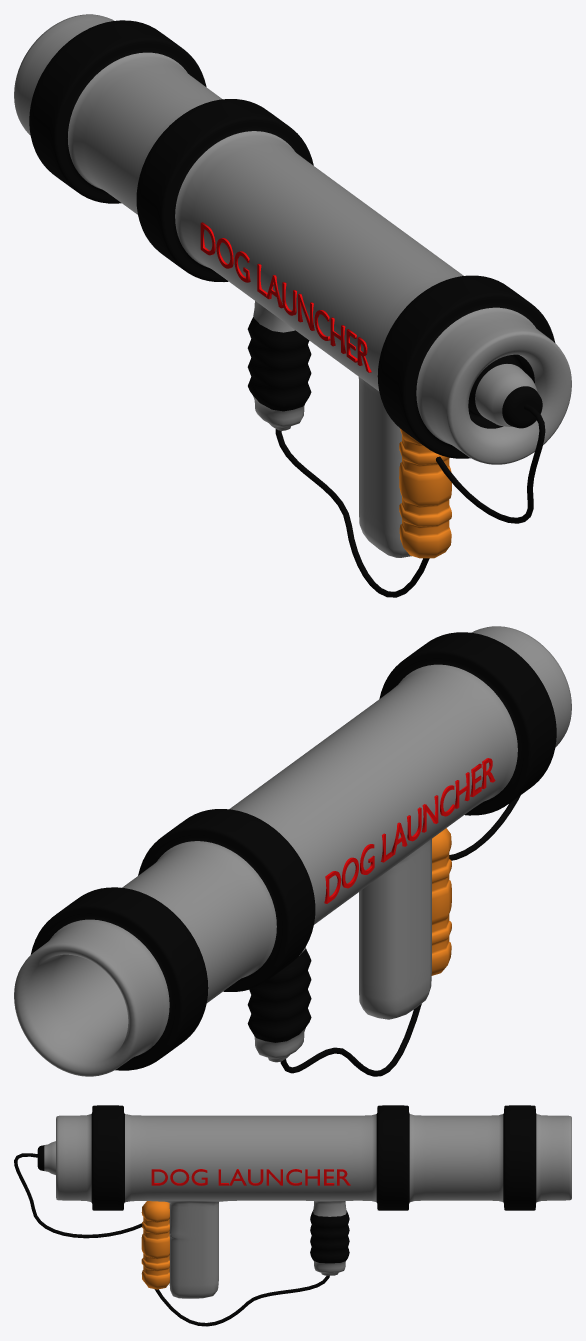
File: Hot_Dog_Cannon.fbx
The picture shows the model from 3 angles, top to bottom: view 1: azimuth 30°, elevation 25°; view 2: azimuth 150°, elevation 25°; view 3: azimuth 270°, elevation 25°; orthographic projection. The views are drawn at different scales.
Visible parts, largest first — view 1: Hot Dog LAUNCHER; view 2: Hot Dog LAUNCHER; view 3: Hot Dog LAUNCHER.
Part boxes in pixels (<box>): Hot Dog LAUNCHER: <box>14,14,571,597</box>; Hot Dog LAUNCHER: <box>14,626,571,1076</box>; Hot Dog LAUNCHER: <box>14,1105,571,1326</box>.
Size of the model in its own units: 20.1 by 45.65 by 106.
